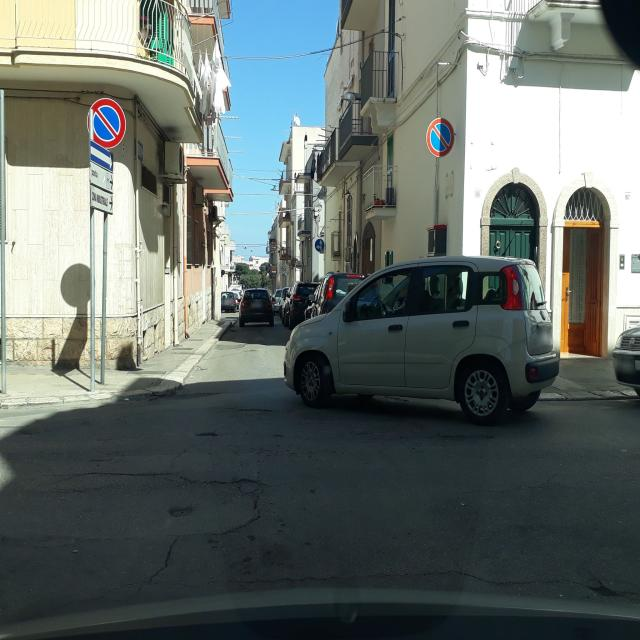forb_stopping: (89, 96, 128, 147), (428, 117, 455, 159)
